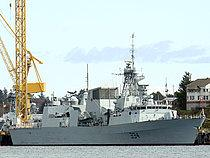MIL_Ship: (9, 58, 204, 146)
